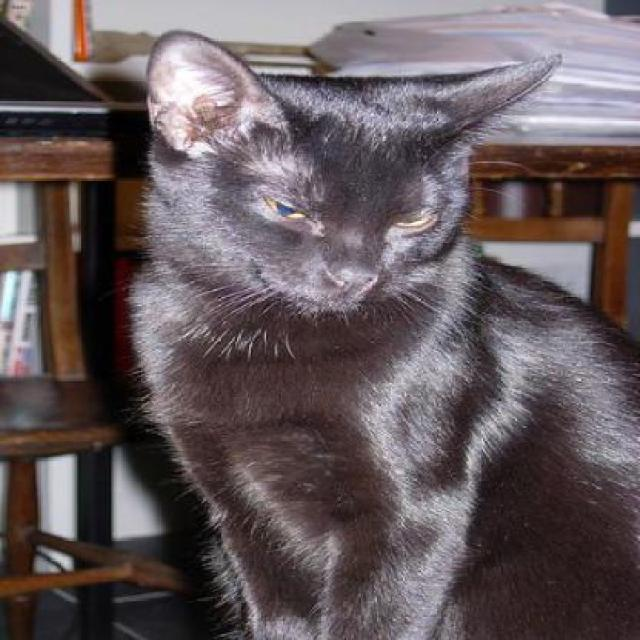cat: (143, 27, 639, 638)
